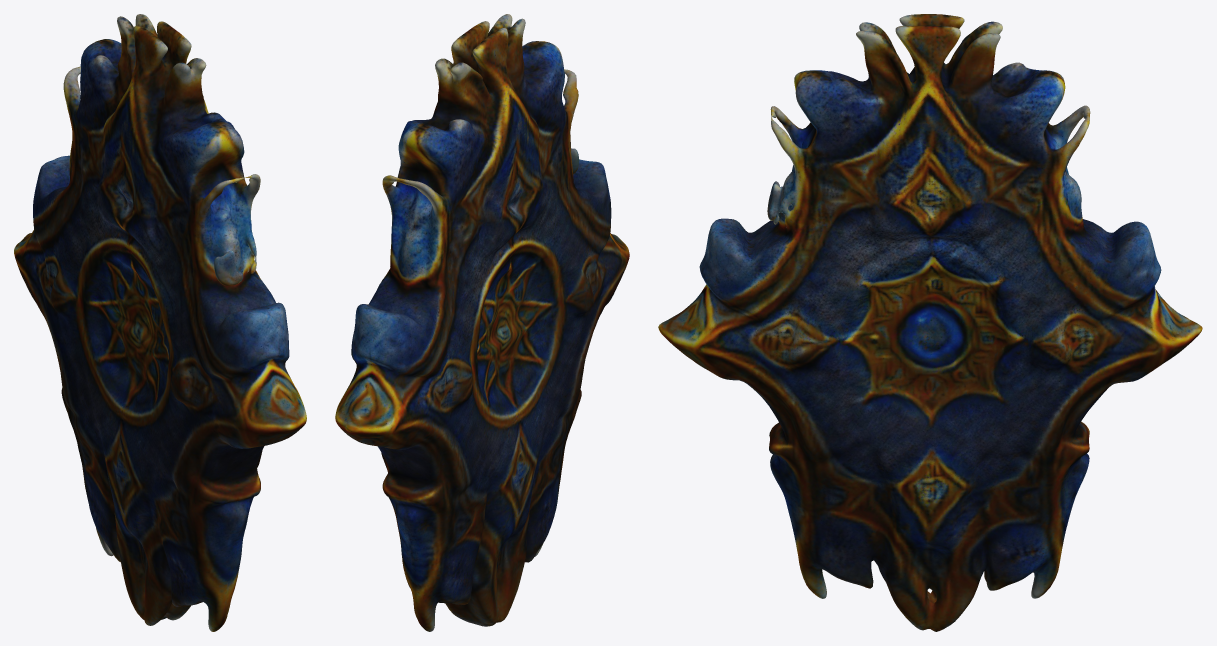
File: Artifact1.fbx
3 renders of one model, left to right at view 1: azimuth 30°, elevation 25°; view 2: azimuth 150°, elevation 25°; view 3: azimuth 270°, elevation 25°, orthographic. The views are drawn at different scales.
Parts seen in each view (by area): view 1: high_poly; view 2: high_poly; view 3: high_poly.
Part boxes in pixels (x1=…): high_poly: x1=14, y1=14, x2=306, y2=631; high_poly: x1=335, y1=14, x2=629, y2=631; high_poly: x1=658, y1=14, x2=1202, y2=631.
Bounding box in the file's own units: 16.58 × 100 × 81.1.
